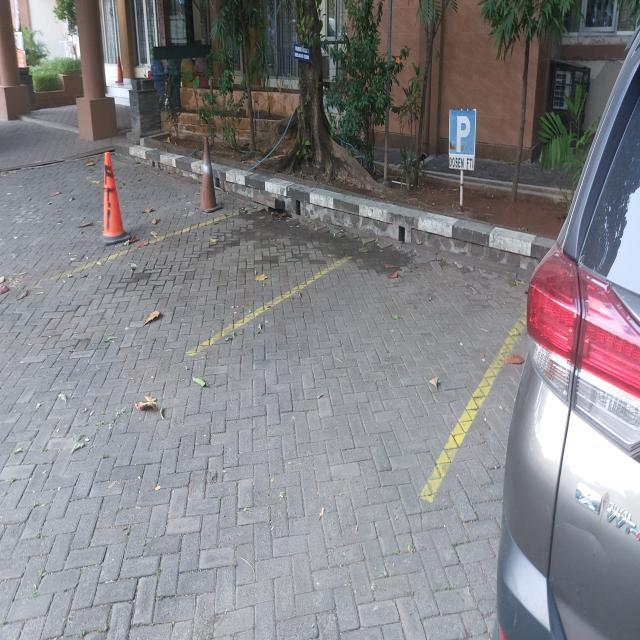Vacant: (187, 252, 524, 495), (65, 208, 351, 352)
